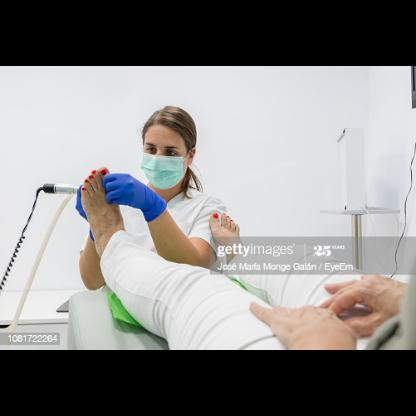Surgical Mask: (138, 131, 196, 187)
